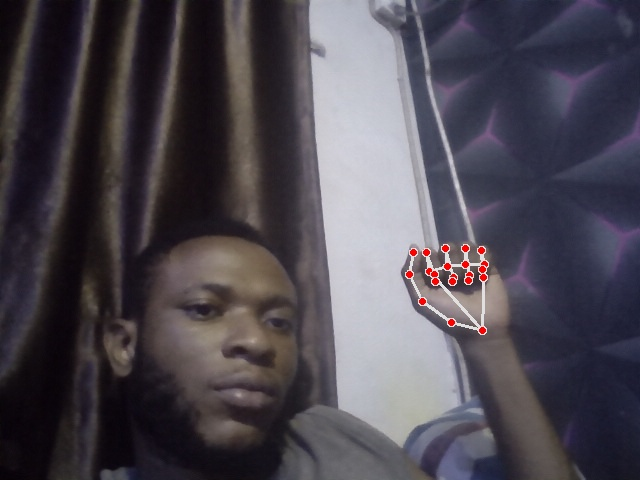number0: (402, 242, 511, 333)
